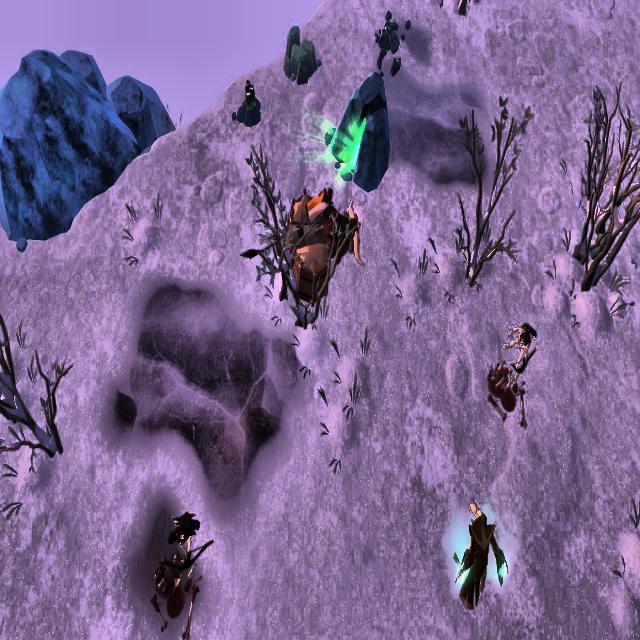enemy_factionUndead: (452, 506, 508, 612), (166, 510, 210, 575), (504, 317, 536, 382)
ore_t3: (242, 76, 257, 116)
rock_t3: (283, 20, 319, 91)
